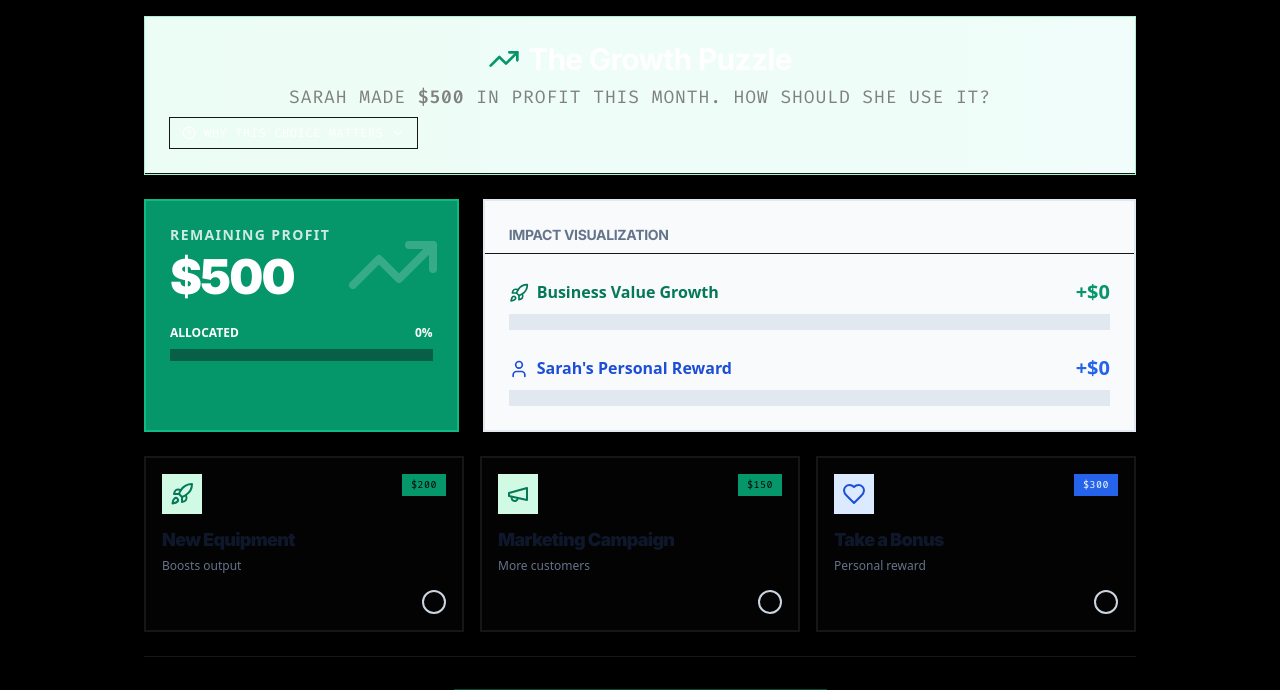
Test: GrowthPuzzle › allows selecting options
This screenshot has width=1280, height=690.
Click the text "New Equipment": (304, 544) [144, 456, 464, 632]
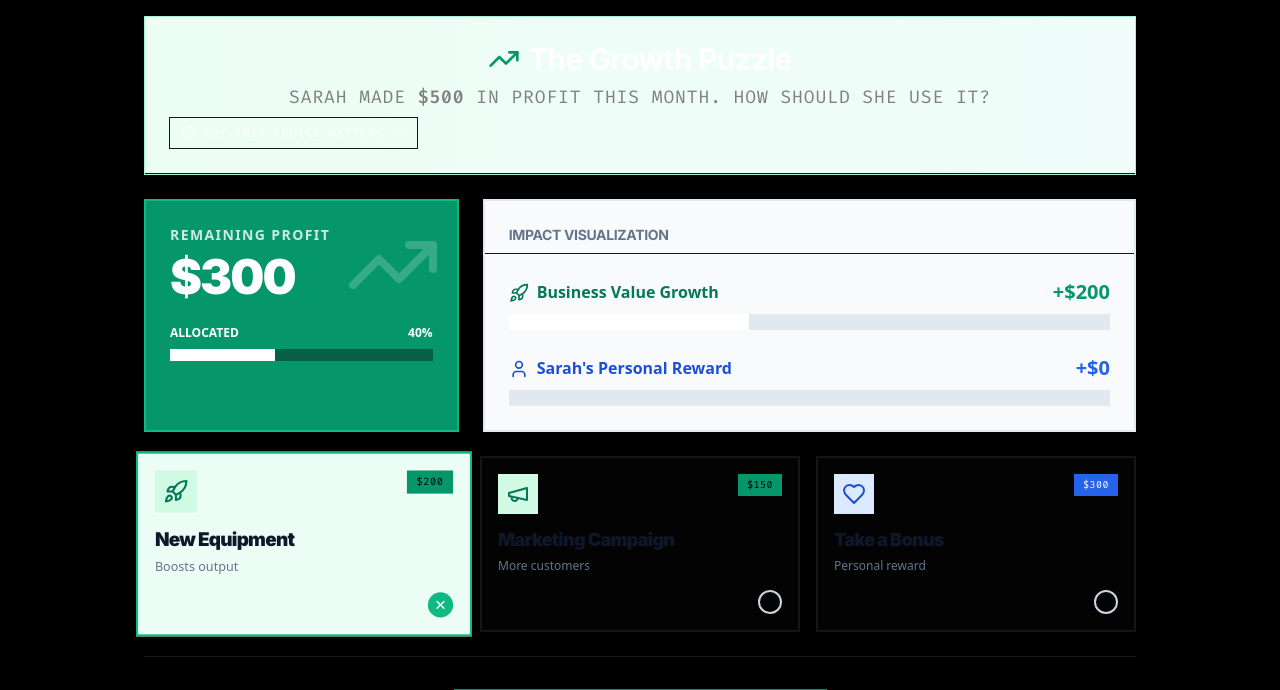
Expected: the heading "$300" is shown, [170, 247, 295, 306]
